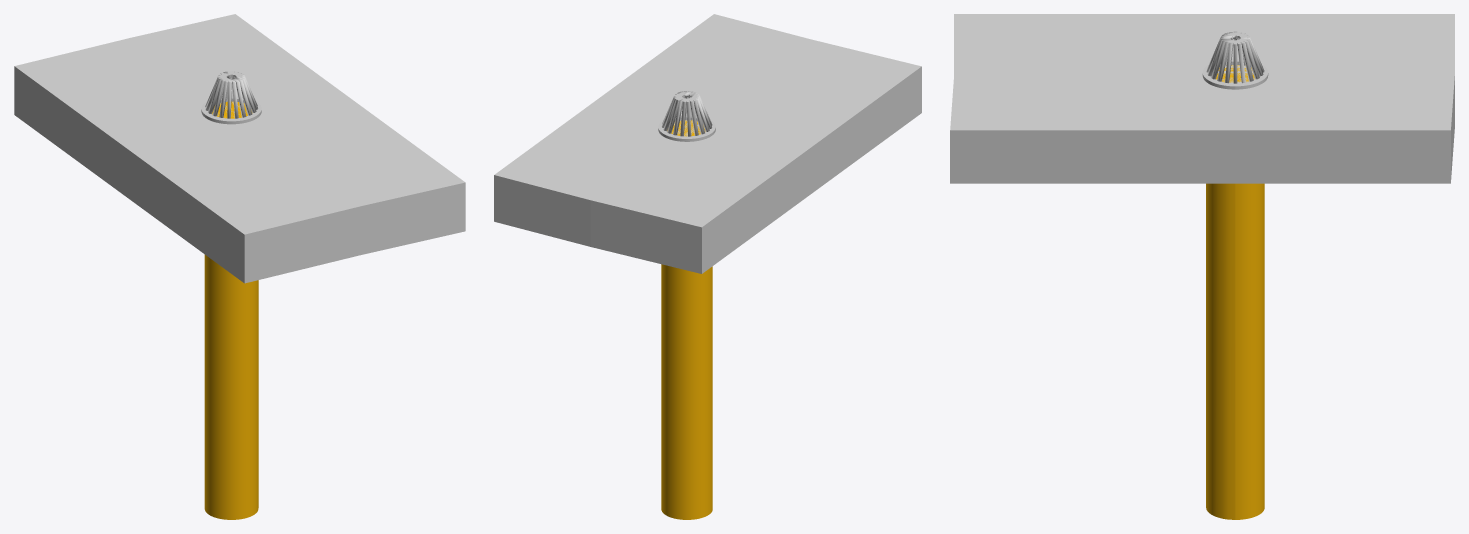
File: tragantes.glb
3 views of the same model, side by side, from view 1: azimuth 30°, elevation 25°; view 2: azimuth 150°, elevation 25°; view 3: azimuth 270°, elevation 25° (orthographic). The views are drawn at different scales.
Visible parts, largest first — view 1: Geom3D (×3); view 2: Geom3D (×3); view 3: Geom3D (×3).
Part boxes in pixels (x1,y1,x2,y2): Geom3D (×3): (14,14,465,519); Geom3D (×3): (494,14,921,519); Geom3D (×3): (950,14,1454,519).
Bounding box in the file's own units: 0.0469 × 0.0883 × 0.086.
